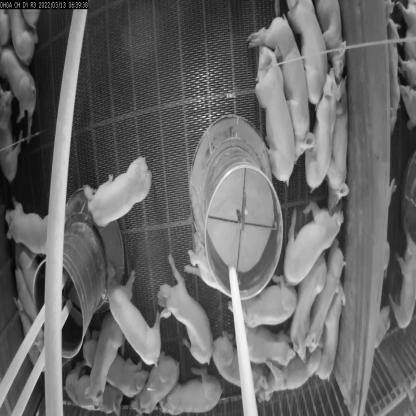Pig: (254, 6, 312, 164), (153, 257, 223, 379), (290, 37, 339, 186), (252, 39, 298, 195), (282, 189, 341, 294), (106, 268, 159, 368), (86, 150, 154, 221), (4, 180, 61, 262), (305, 229, 337, 374), (228, 272, 294, 340), (61, 352, 132, 415), (282, 0, 330, 93), (82, 296, 122, 398), (2, 34, 40, 134), (251, 352, 318, 408), (213, 335, 268, 398), (91, 338, 148, 398), (223, 322, 297, 368), (289, 248, 316, 361), (134, 353, 176, 414), (164, 373, 224, 415)
